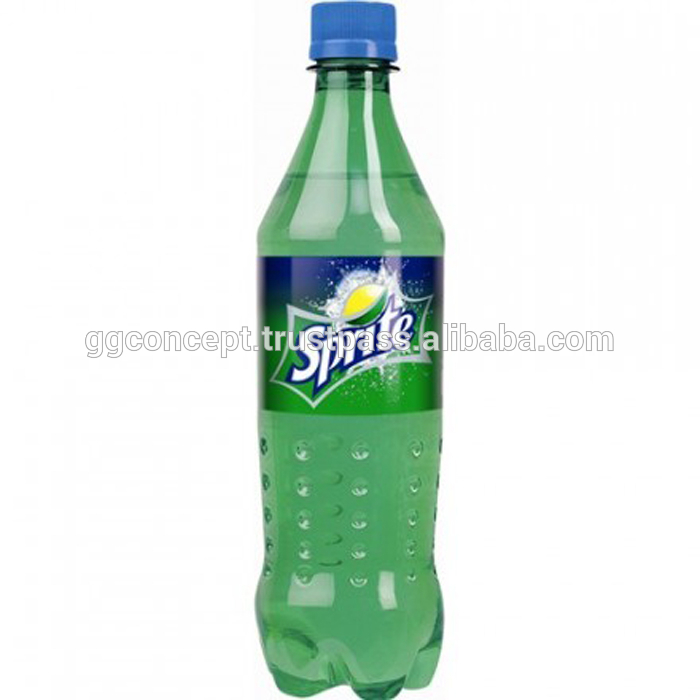sprite_bottle: (256, 1, 445, 697)
